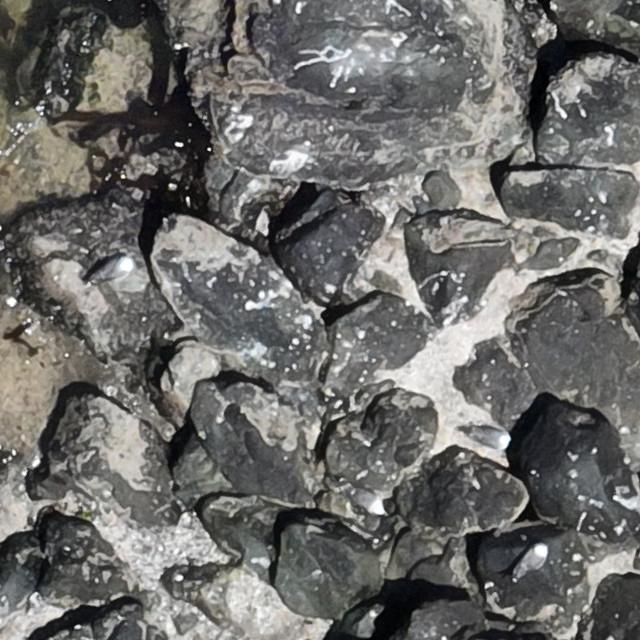umineko: (517, 545, 546, 574), (99, 258, 133, 280), (354, 492, 387, 514), (474, 429, 508, 448)
